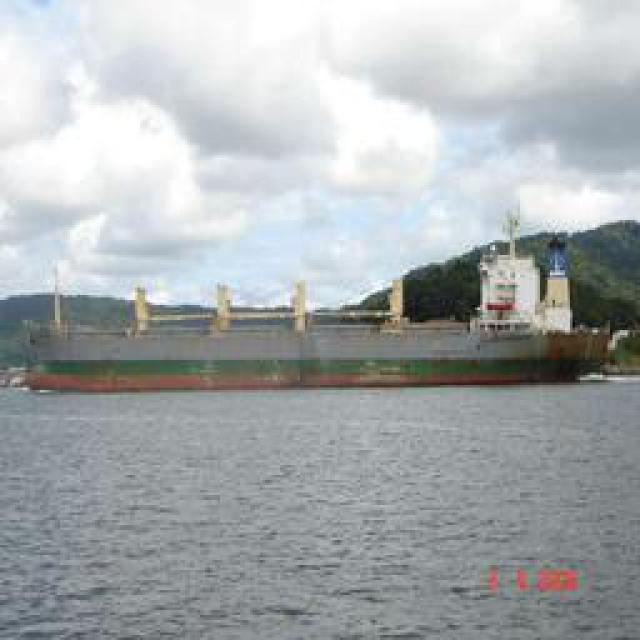Ship: (6, 324, 611, 389)
